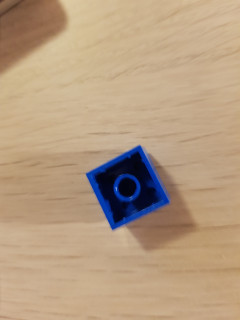2x2 blue: (85, 144, 171, 231)
